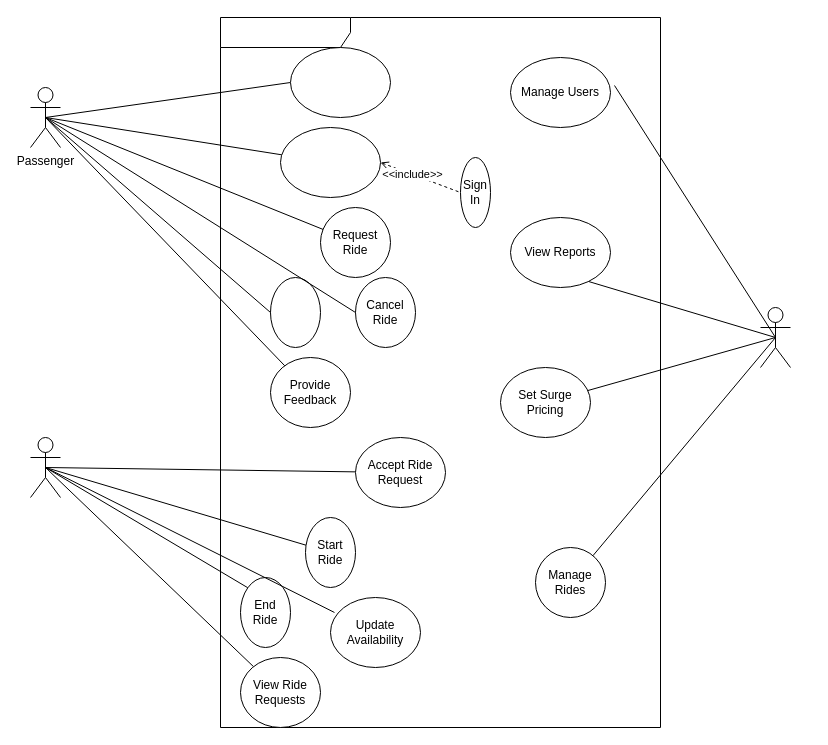
This 828x745 diagram has some shape labels left out. Here are the shapes that lost their labels. From the top down, the box of each, then its label:
(290, 46, 390, 118): Sign Up
(280, 126, 380, 198): View Available Drivers
(270, 276, 320, 348): Track Ride
(760, 306, 790, 368): Administrator
(220, 16, 660, 728): Ride Sharing App
(30, 436, 60, 498): Driver
